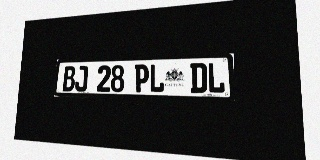2: (97, 65, 111, 92)
8: (110, 65, 125, 92)
B: (62, 66, 76, 91)
D: (190, 63, 207, 93)
J: (75, 66, 88, 92)
L: (207, 62, 225, 93), (149, 64, 164, 93)
P: (134, 64, 149, 92)
